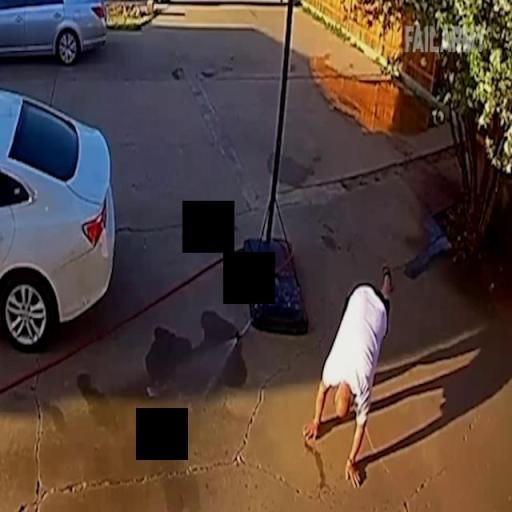Fall: (298, 250, 393, 491)
